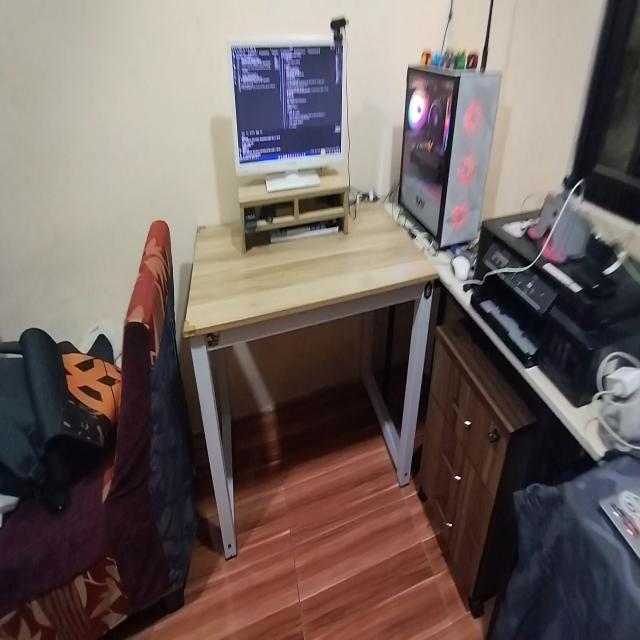table: (188, 188, 440, 552)
